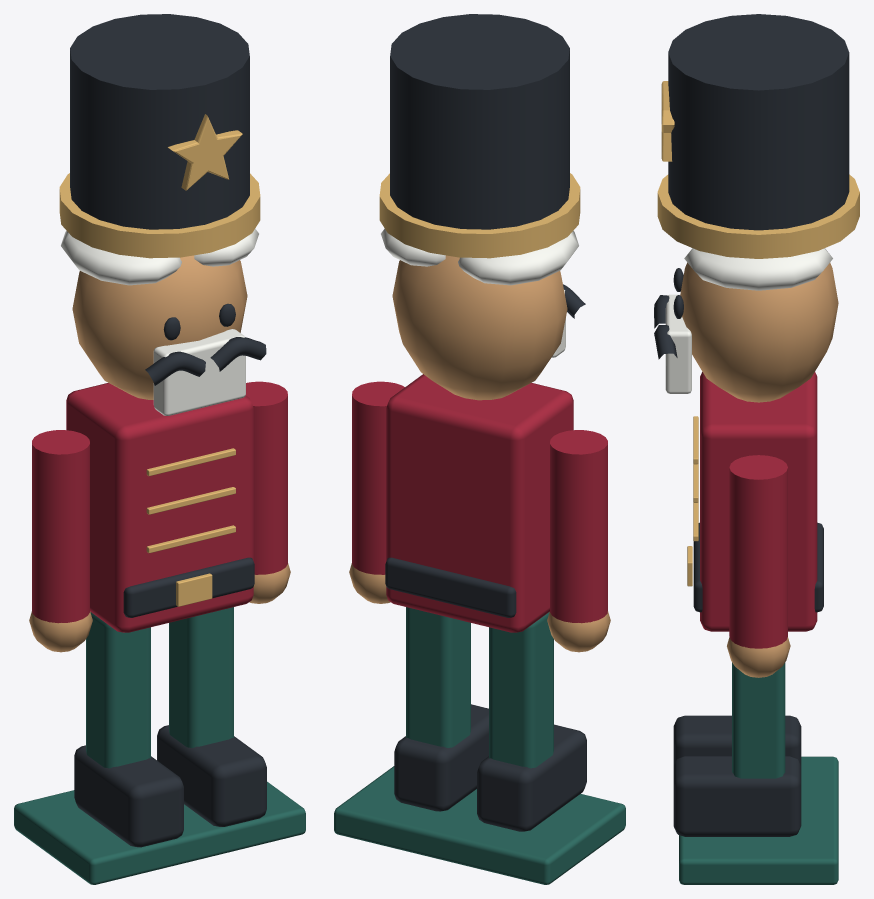
File: christmas-storybook-royal-nutcracker-1b3d81a4__18757.glb
3 views of the same model, side by side, from view 1: azimuth 30°, elevation 25°; view 2: azimuth 150°, elevation 25°; view 3: azimuth 270°, elevation 25° (orthographic).
Visible parts, largest first — view 1: ink, berry, pine, biscuit, brass, cream; view 2: ink, berry, pine, biscuit, brass, cream; view 3: ink, berry, biscuit, pine, brass, cream.
Boxes of the visible parts, left/top/right/bottom form: ink: left=70, top=14, right=266, bottom=847; berry: left=32, top=381, right=287, bottom=632; pine: left=14, top=607, right=305, bottom=884; biscuit: left=29, top=255, right=290, bottom=652; brass: left=59, top=114, right=260, bottom=606; cream: left=61, top=228, right=258, bottom=415; ink: left=385, top=14, right=586, bottom=831; berry: left=352, top=374, right=607, bottom=632; pine: left=334, top=607, right=625, bottom=884; biscuit: left=349, top=255, right=610, bottom=652; brass: left=379, top=173, right=580, bottom=258; cream: left=381, top=228, right=578, bottom=357; ink: left=654, top=14, right=849, bottom=836; berry: left=700, top=372, right=817, bottom=648; biscuit: left=680, top=262, right=838, bottom=677; pine: left=679, top=662, right=838, bottom=884; brass: left=657, top=81, right=859, bottom=586; cream: left=665, top=248, right=832, bottom=393.
Size of the model in its own units: 0.55 by 1.62 by 0.3865.
